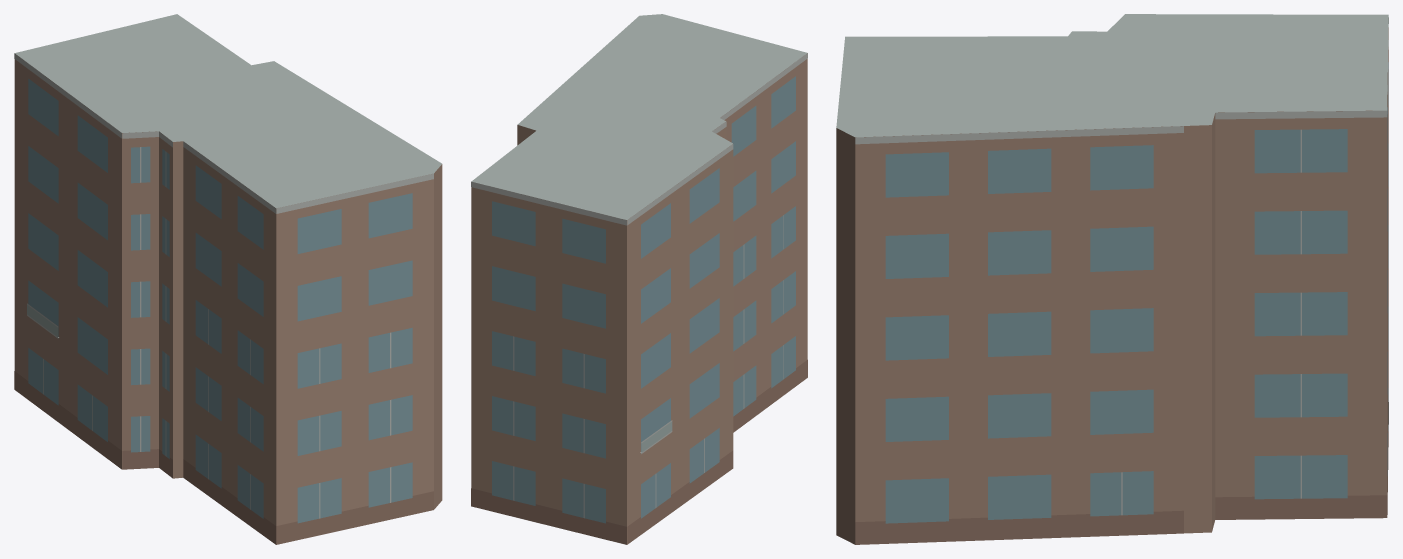
Rendered from survey-upis-32557134.glb.
The picture shows the model from 3 angles, left to right: view 1: azimuth 30°, elevation 25°; view 2: azimuth 150°, elevation 25°; view 3: azimuth 270°, elevation 25°; orthographic projection. The views are drawn at different scales.
Parts seen in each view (by area): view 1: survey-upis-32557134.tmp; view 2: survey-upis-32557134.tmp; view 3: survey-upis-32557134.tmp.
Part boxes in pixels (x1,y1,x2,y2): survey-upis-32557134.tmp: (14, 14, 442, 544); survey-upis-32557134.tmp: (471, 14, 807, 544); survey-upis-32557134.tmp: (836, 14, 1388, 544).
Size of the model in its own units: 9.36 by 14.4 by 17.7.
